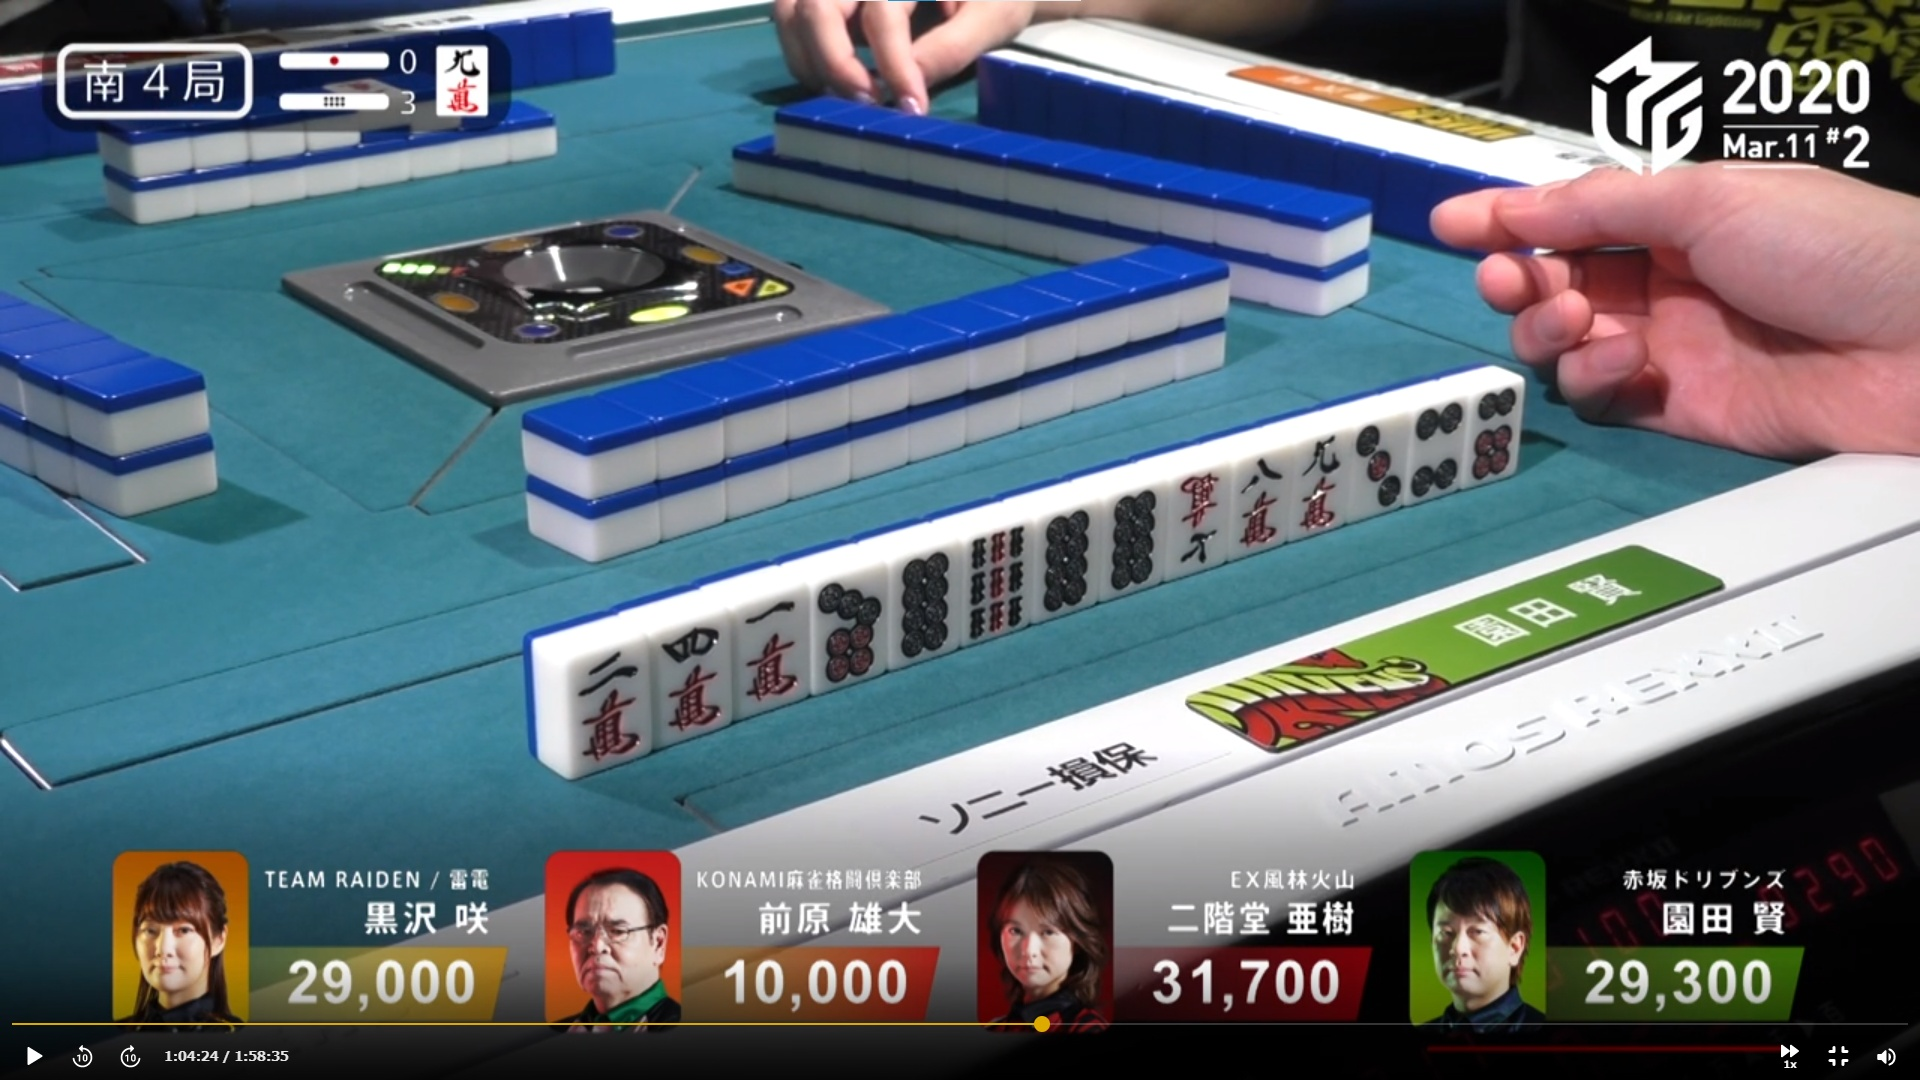1m: (735, 589, 811, 705)
2m: (566, 641, 647, 764)
3p: (1341, 410, 1403, 518)
4m: (650, 612, 732, 741)
4p: (1410, 396, 1464, 501)
6p: (1472, 380, 1515, 481)
7m: (1166, 464, 1225, 574)
7p: (807, 566, 882, 691)
8m: (1226, 447, 1279, 555)
8p: (880, 542, 957, 665), (1027, 505, 1095, 621), (1101, 477, 1158, 597)
9m: (1280, 426, 1340, 541)
9s: (957, 522, 1023, 640)
hand_nan_4: (51, 37, 262, 120)
round_3: (270, 86, 419, 117)
team_drivens: (1180, 632, 1465, 754)
